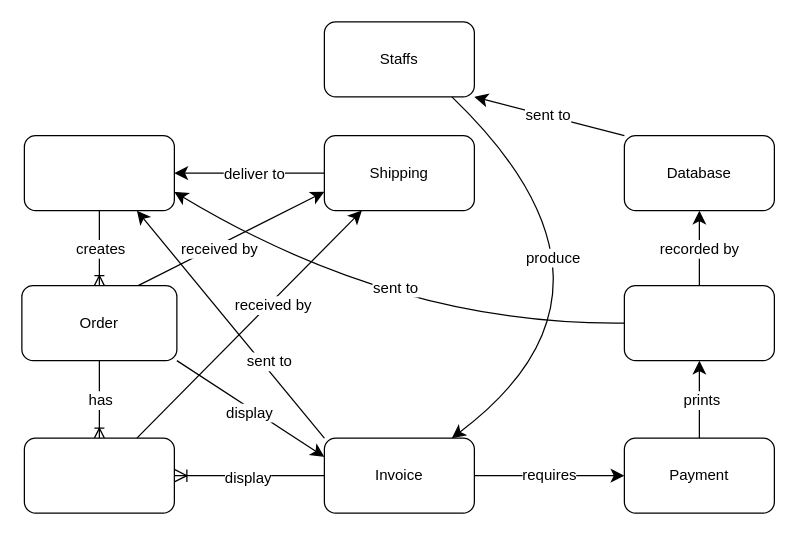
The diagram is 796 pixels wide and 535 high, and some of its shapes have lost their labels. The shapes that lost their labels are listed below. From the top down, each one's box as (x1, y1, x2, y2) in pixels, then its label:
(23, 134, 174, 211): Customer
(623, 284, 774, 361): Receipt
(23, 437, 174, 513): Product
